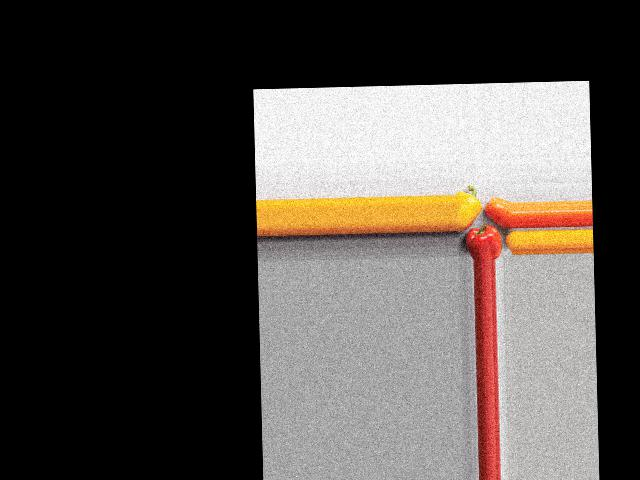bell_pepper: (462, 225, 501, 259)
